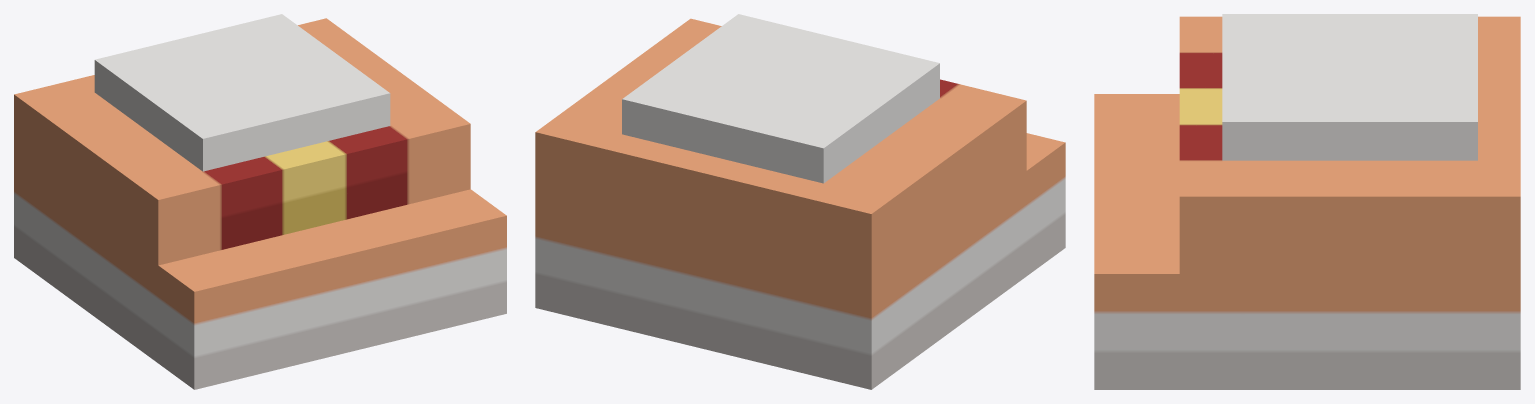
File: Chest065.fbx
3 renders of one model, left to right at view 1: azimuth 30°, elevation 25°; view 2: azimuth 150°, elevation 25°; view 3: azimuth 270°, elevation 25°, orthographic. The views are drawn at different scales.
Visible parts, largest first — view 1: Chest065; view 2: Chest065; view 3: Chest065.
Part boxes in pixels (x1=…): Chest065: x1=14, y1=14, x2=506, y2=389; Chest065: x1=535, y1=14, x2=1065, y2=389; Chest065: x1=1094, y1=14, x2=1520, y2=389.
Size of the model in its own units: 10 by 6 by 10.
